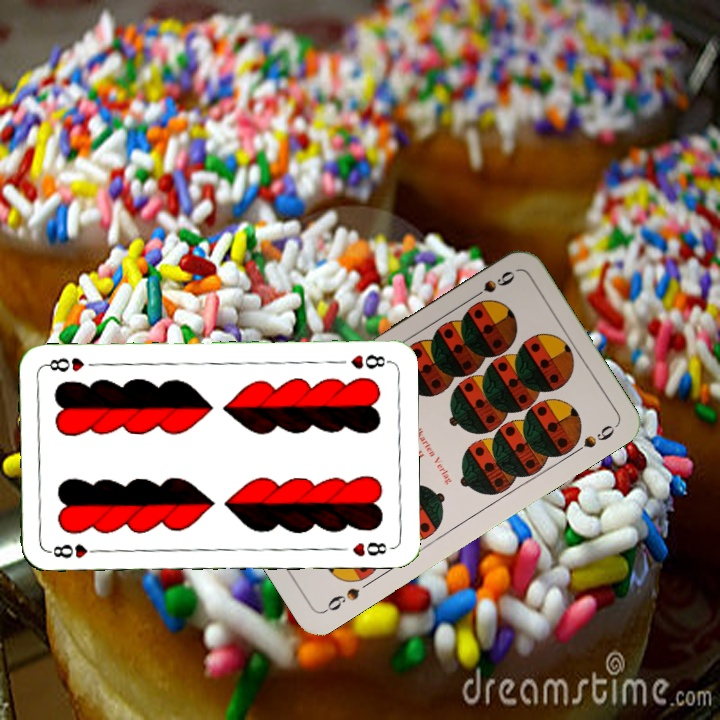H8: (45, 540, 104, 561), (346, 350, 391, 372)
S9: (465, 266, 518, 304), (319, 583, 362, 616)
